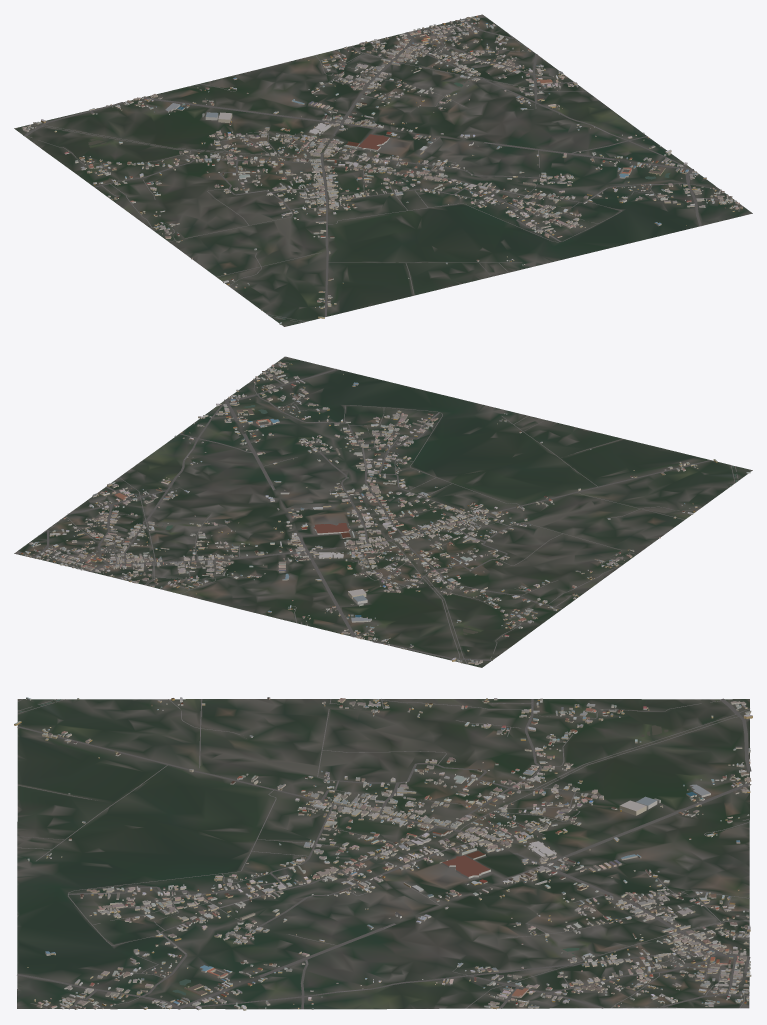
3 views of the same model, one above another, from view 1: azimuth 30°, elevation 25°; view 2: azimuth 150°, elevation 25°; view 3: azimuth 270°, elevation 25° (orthographic). The views are drawn at different scales.
Visible parts, largest first — view 1: ground, buildings, roads; view 2: ground, buildings, roads; view 3: ground, buildings, roads.
Part boxes in pixels (left/top/right/bottom): ground: left=14, top=14, right=752, bottom=326; buildings: left=21, top=15, right=742, bottom=324; roads: left=23, top=17, right=741, bottom=325; ground: left=14, top=356, right=752, bottom=667; buildings: left=21, top=361, right=750, bottom=664; roads: left=17, top=362, right=750, bottom=663; ground: left=17, top=699, right=749, bottom=1009; buildings: left=14, top=697, right=752, bottom=1010; roads: left=17, top=698, right=751, bottom=1009.
Bounding box in the file's own units: 2819 × 26.22 × 2827.
